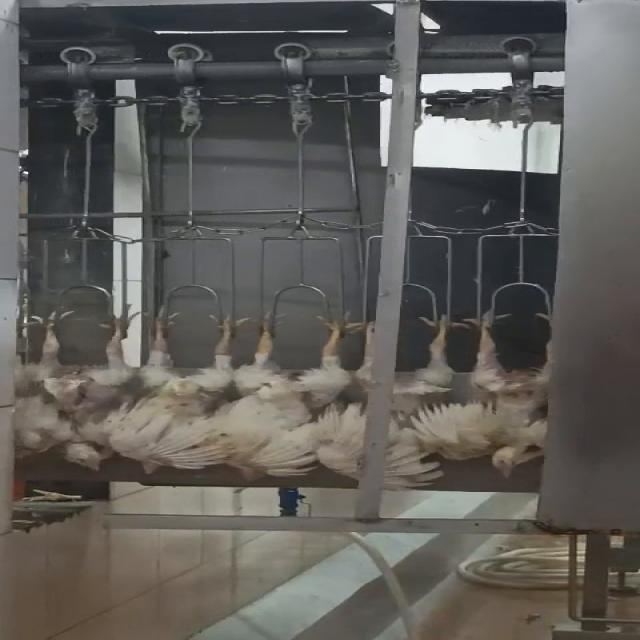chicken: (126, 304, 272, 476), (3, 304, 138, 476), (353, 306, 468, 488), (448, 300, 565, 476), (235, 309, 346, 480)
